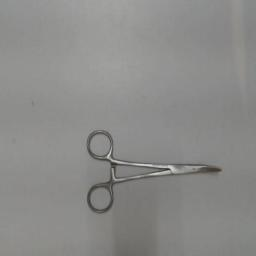Crile Artery Forceps: (83, 124, 227, 216)
